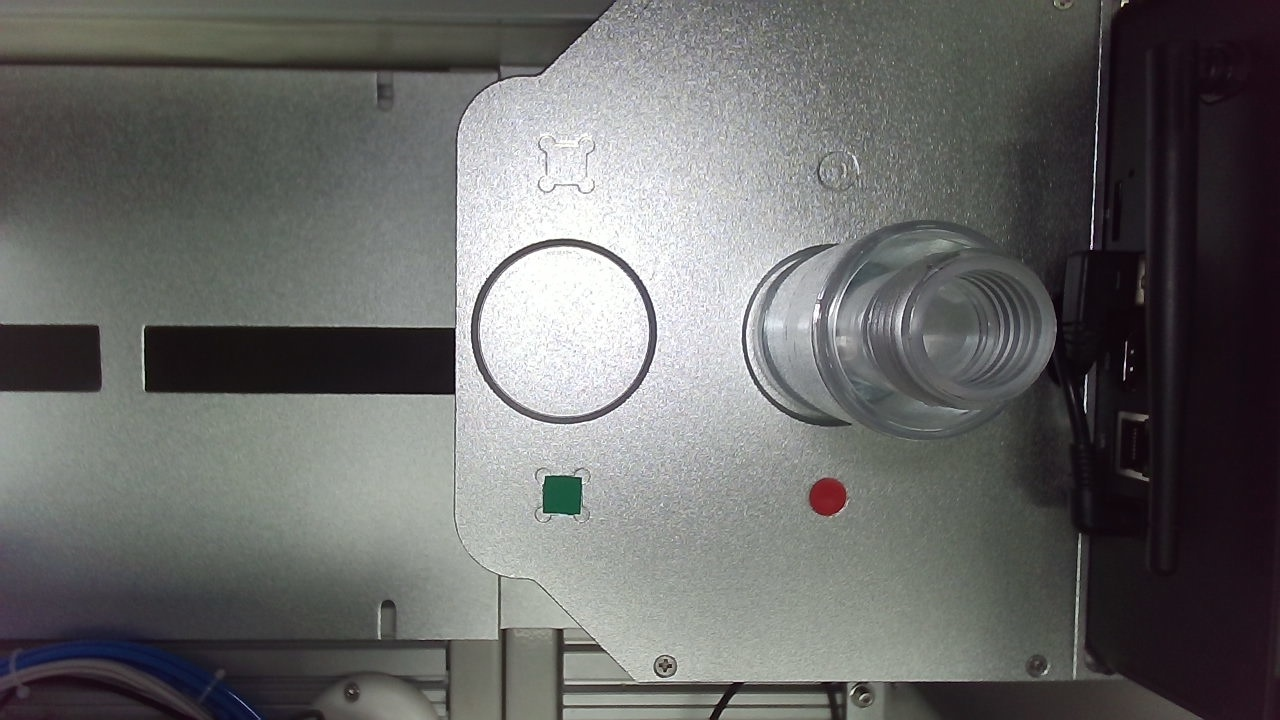XLabel: (630, 256, 667, 290)
YLabel: (406, 256, 444, 293)
none: (569, 321, 733, 491)
transparentempty: (217, 326, 505, 547)
